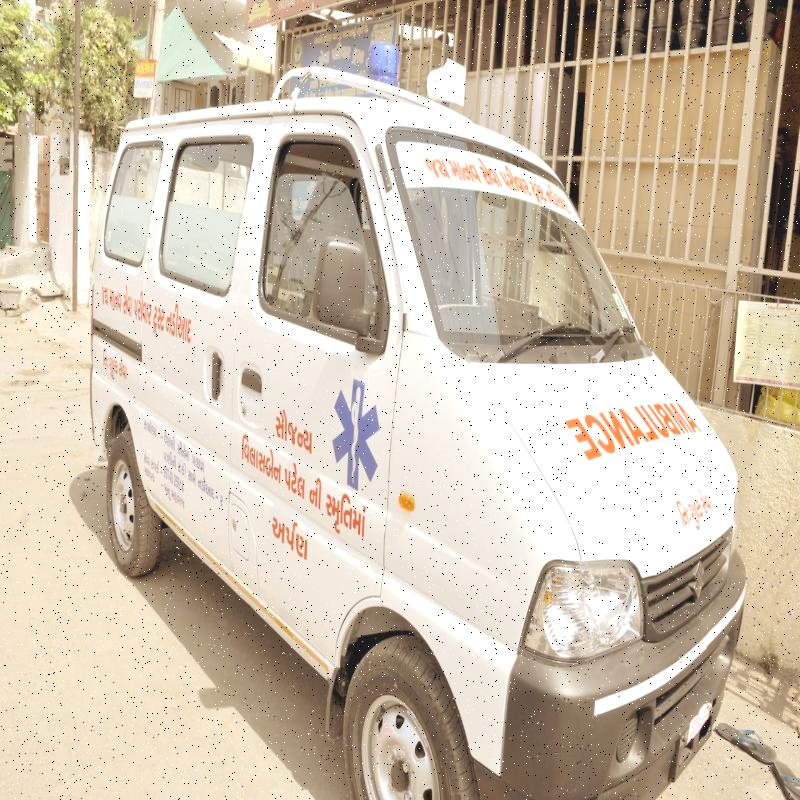ambulance: (92, 40, 744, 800)
